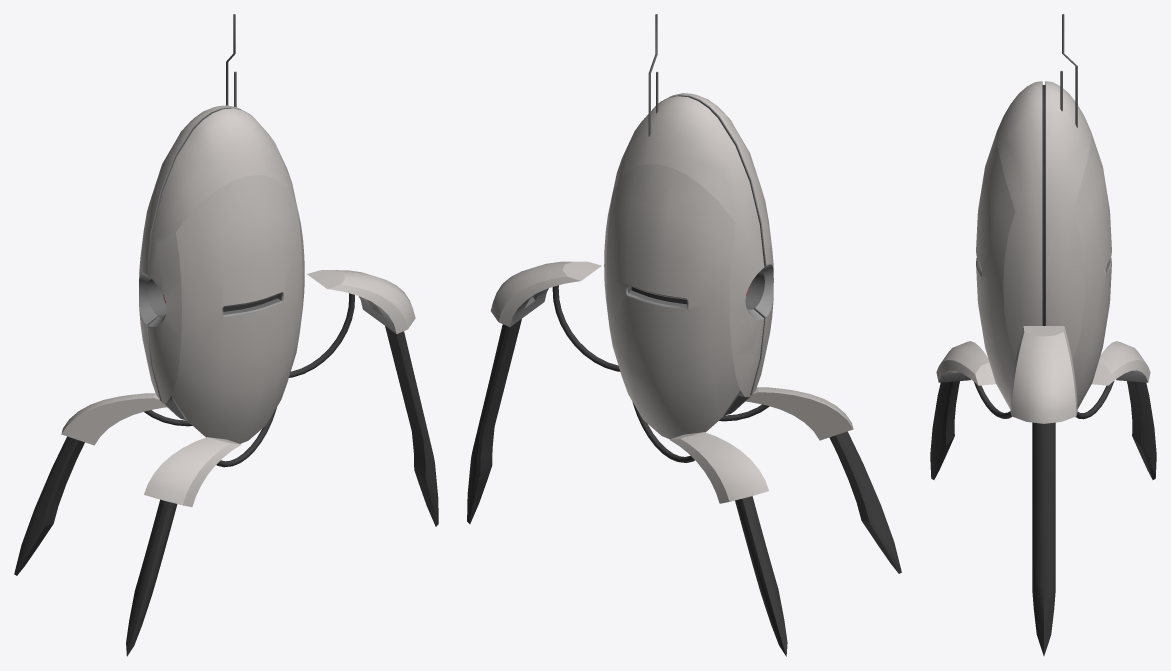
The model's file is turret.obj.
3 renders of one model, left to right at view 1: azimuth 30°, elevation 25°; view 2: azimuth 150°, elevation 25°; view 3: azimuth 270°, elevation 25°, orthographic. The views are drawn at different scales.
Parts seen in each view (by area): view 1: turret_01.mdl/Turret_01_reference.smd.002; view 2: turret_01.mdl/Turret_01_reference.smd.002; view 3: turret_01.mdl/Turret_01_reference.smd.002.
Part boxes in pixels (x1=…): turret_01.mdl/Turret_01_reference.smd.002: x1=14, y1=14, x2=438, y2=656; turret_01.mdl/Turret_01_reference.smd.002: x1=467, y1=14, x2=901, y2=656; turret_01.mdl/Turret_01_reference.smd.002: x1=930, y1=14, x2=1156, y2=655.
Bounding box in the file's own units: 0.743 × 1.06 × 0.3978.
